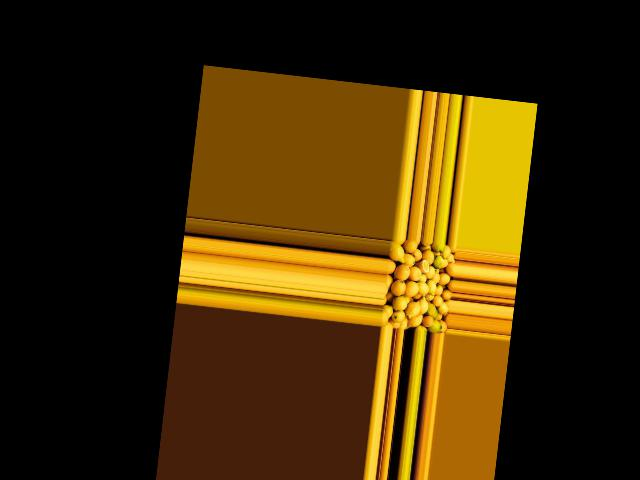lemon: (384, 274, 392, 288)
